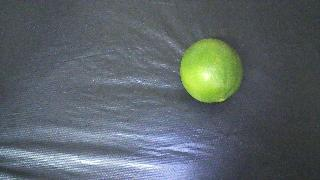LOCAL: (180, 39, 243, 103)
